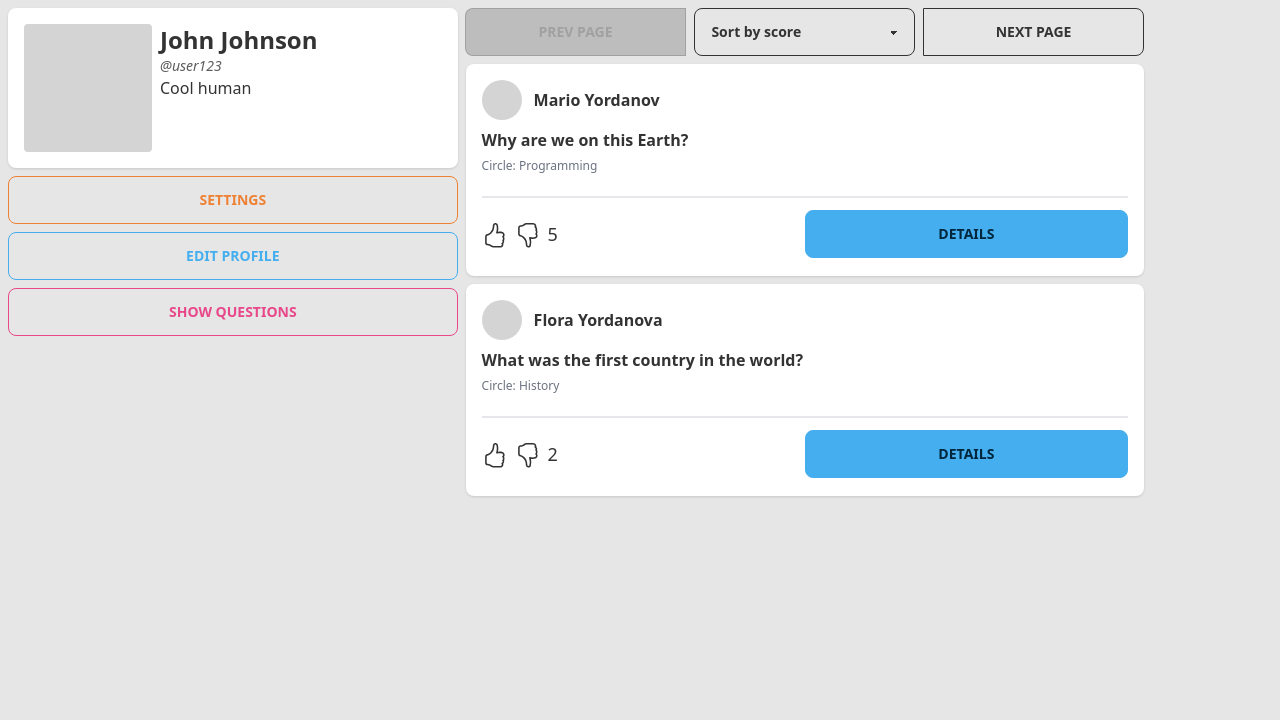
Scenario: profile page › display edit and settings for owner and on click open and close sub-menus
This screenshot has width=1280, height=720.
expect the button "Edit Profile" is shown: met, box [8, 232, 458, 280]
Open settings
Click the button "Settings". click: click(233, 200)
box: [8, 176, 458, 224]
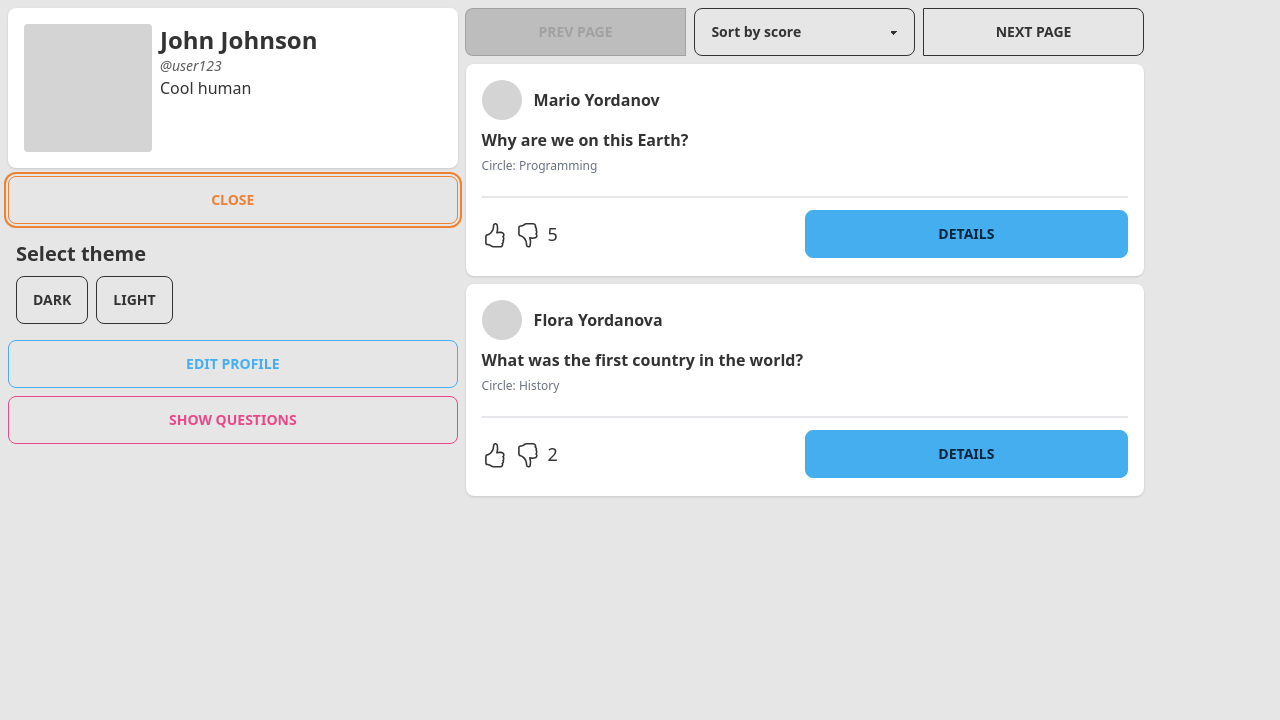
expect the heading "Select theme" is shown: met, box [16, 240, 146, 267]
Close settings
Click the button named "settings". click: click(233, 200)
box: [8, 176, 458, 224]
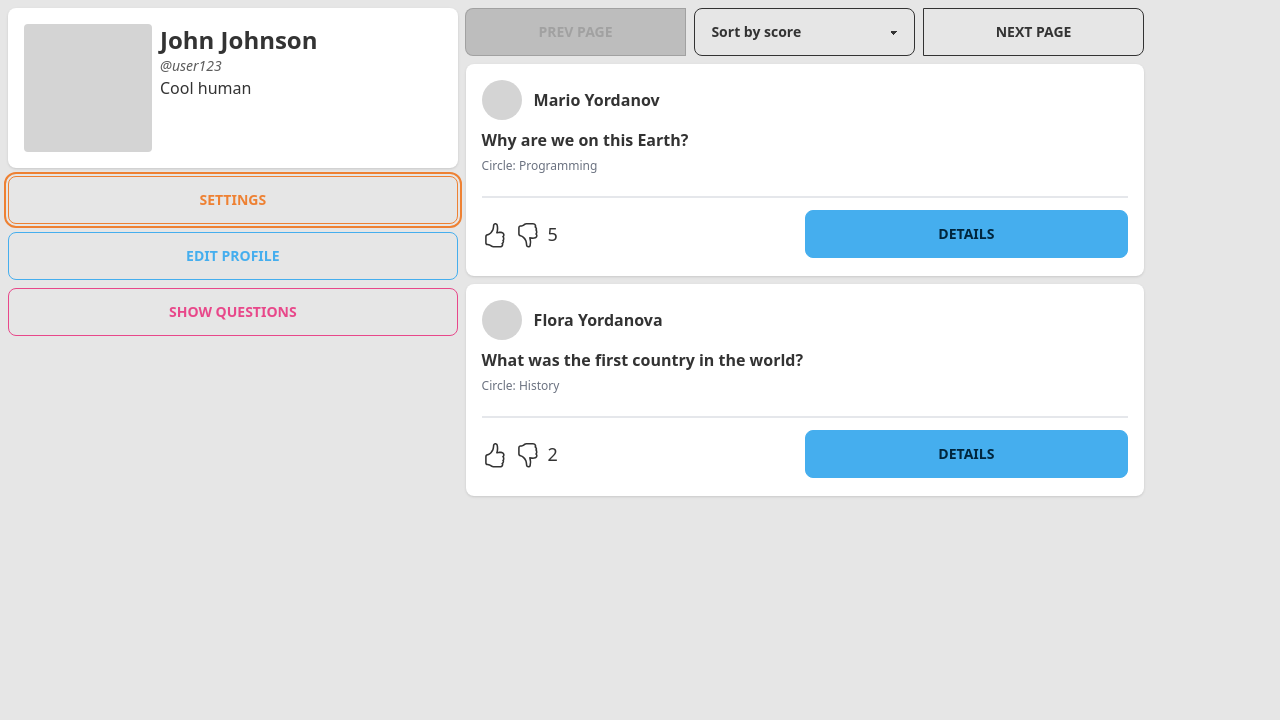
expect the heading "Select theme" is gone: met
Open edit profile
Click the button "Edit Profile". click: click(233, 256)
box: [8, 232, 458, 280]
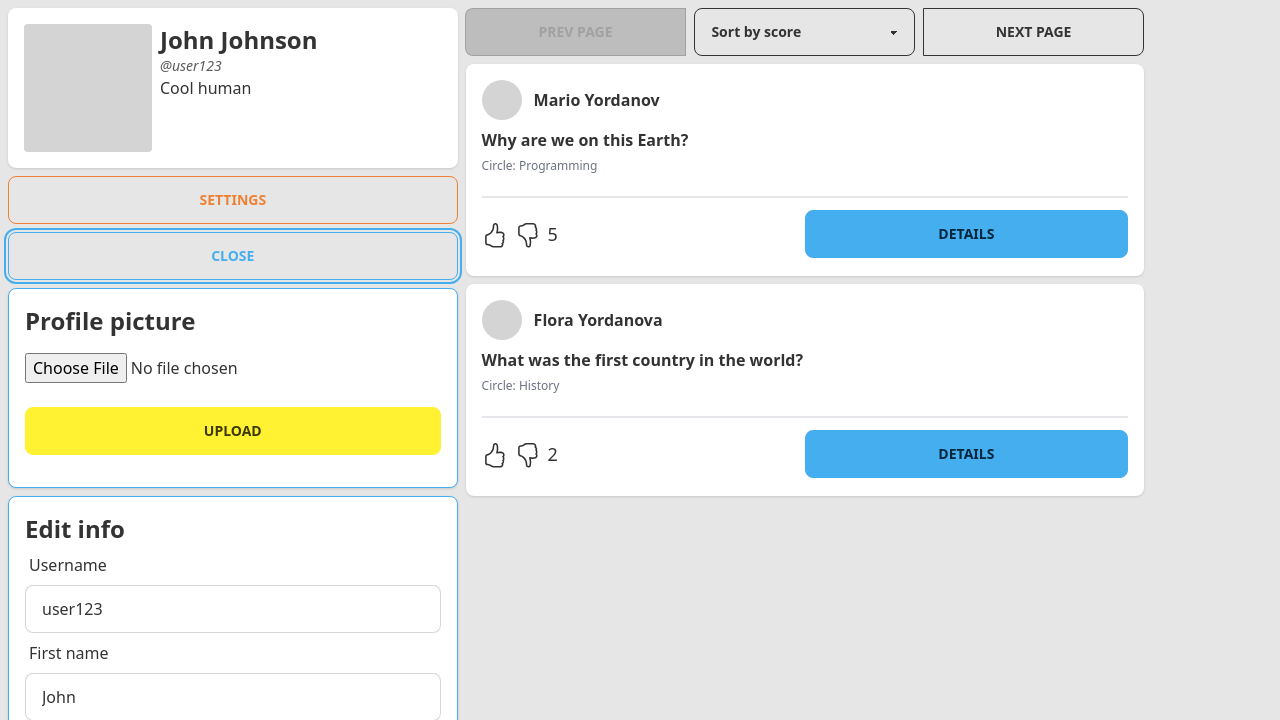
expect the heading "Profile picture" is shown: met, box [25, 304, 195, 337]
expect the heading "Edit info" is shown: met, box [25, 512, 125, 545]
expect the field labelled "Username" holds "user123": met, box [25, 585, 441, 633]
Close edit profile
Click the button named "edit profile". click: click(233, 256)
box: [8, 232, 458, 280]
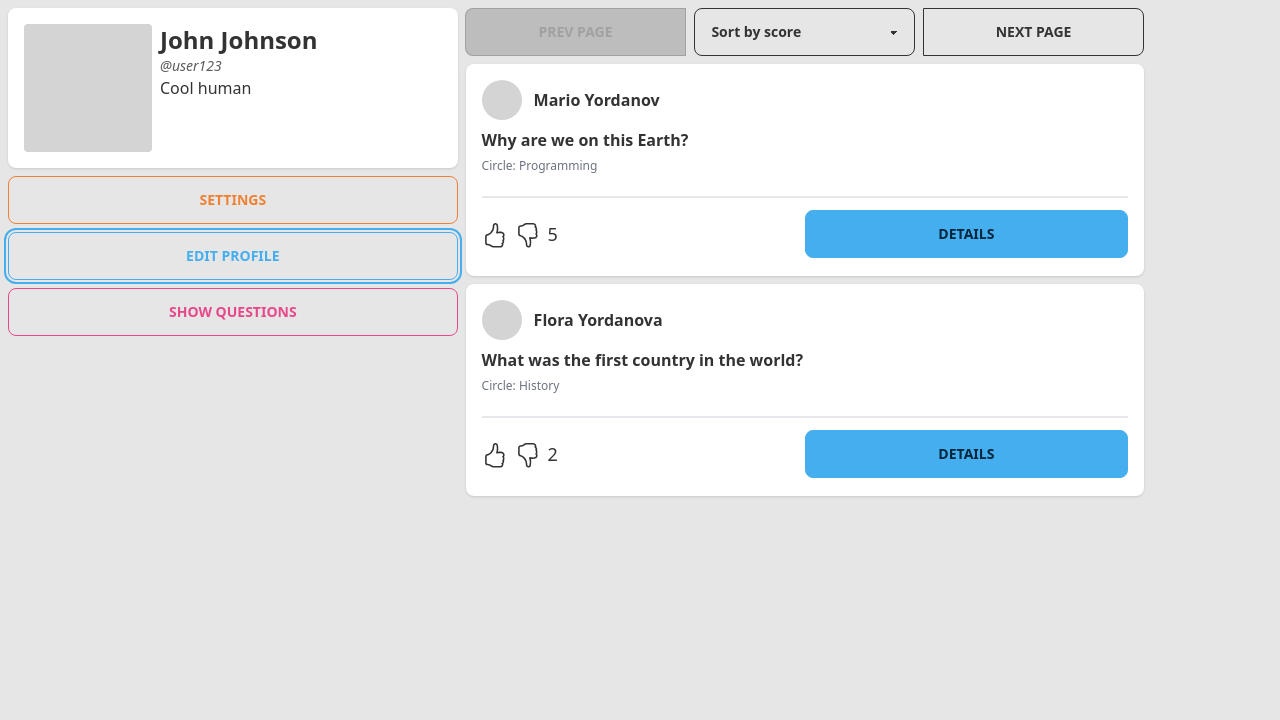
expect the heading "Edit info" is gone: met
